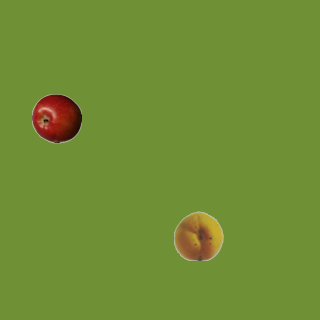Apple Braeburn: (31, 93, 81, 143)
Peach 2: (173, 210, 223, 260)
